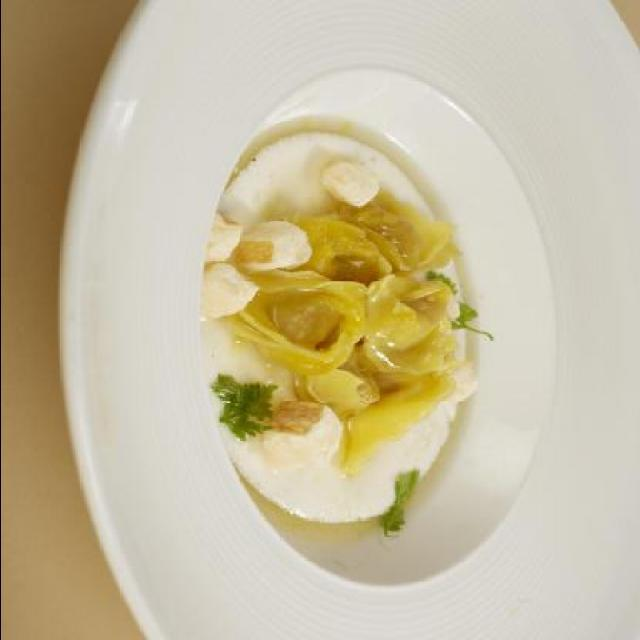Tortellini in broth: (208, 134, 472, 576)
